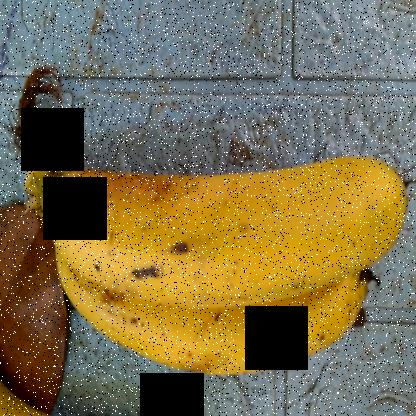ripe: (50, 125, 415, 311), (62, 259, 367, 381)
